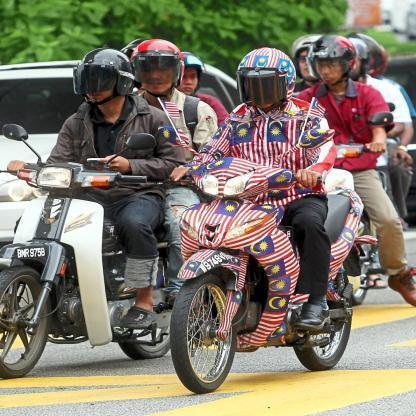helmet: (236, 47, 296, 109), (73, 48, 132, 100), (131, 38, 185, 92), (308, 34, 356, 85), (292, 34, 334, 81), (168, 48, 205, 98), (332, 36, 370, 78)
